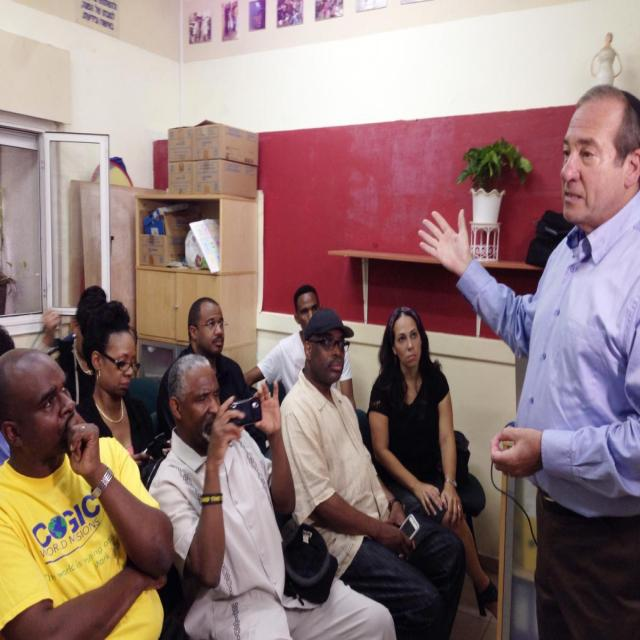body: (414, 76, 639, 639), (145, 346, 403, 639), (278, 306, 468, 640), (0, 345, 191, 639), (368, 305, 499, 621), (157, 295, 264, 462), (243, 283, 358, 412), (73, 298, 157, 470), (36, 283, 106, 407), (0, 320, 13, 350)
